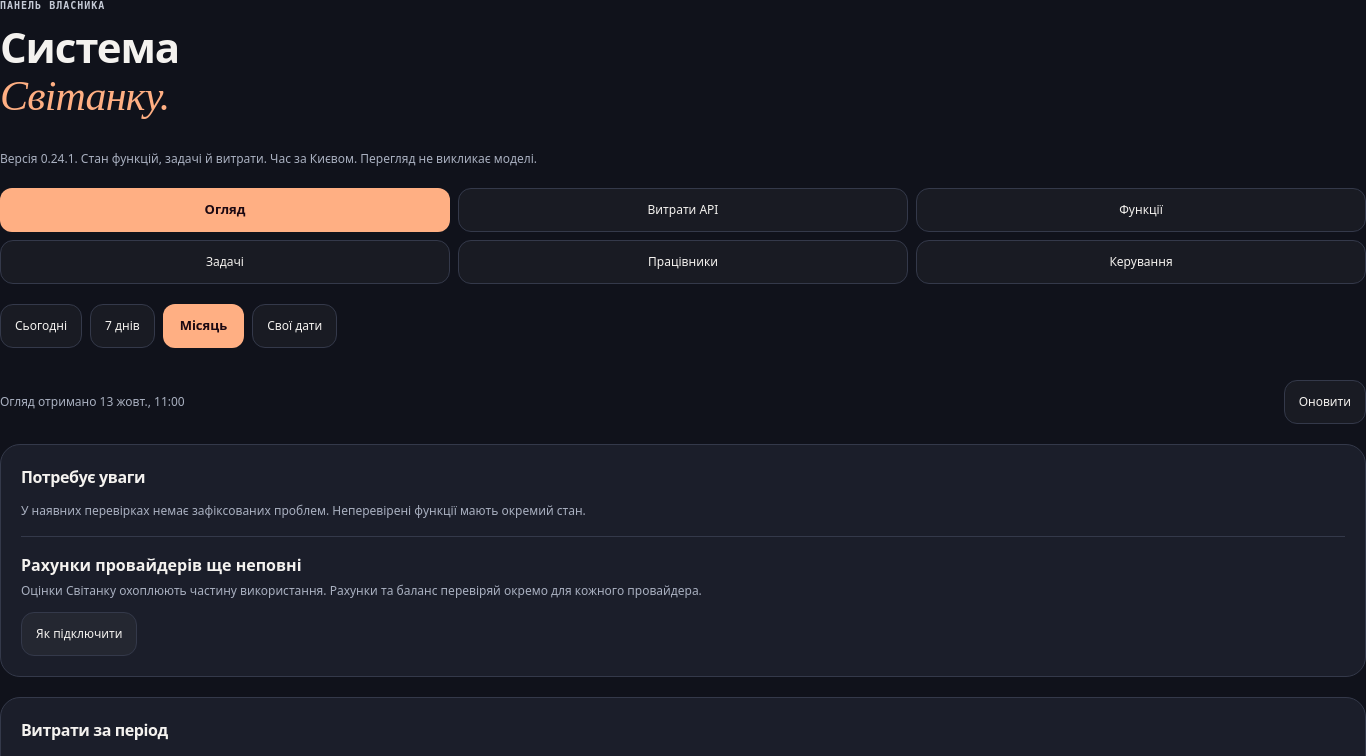
shows budget conflicts without losing the entered amount or enabling enforcement
Expected: the heading "Потребує уваги" is shown, x1=21 y1=466 x2=145 y2=488
Click the button "Керування": [1141, 262] box x1=916 y1=240 x2=1365 y2=284
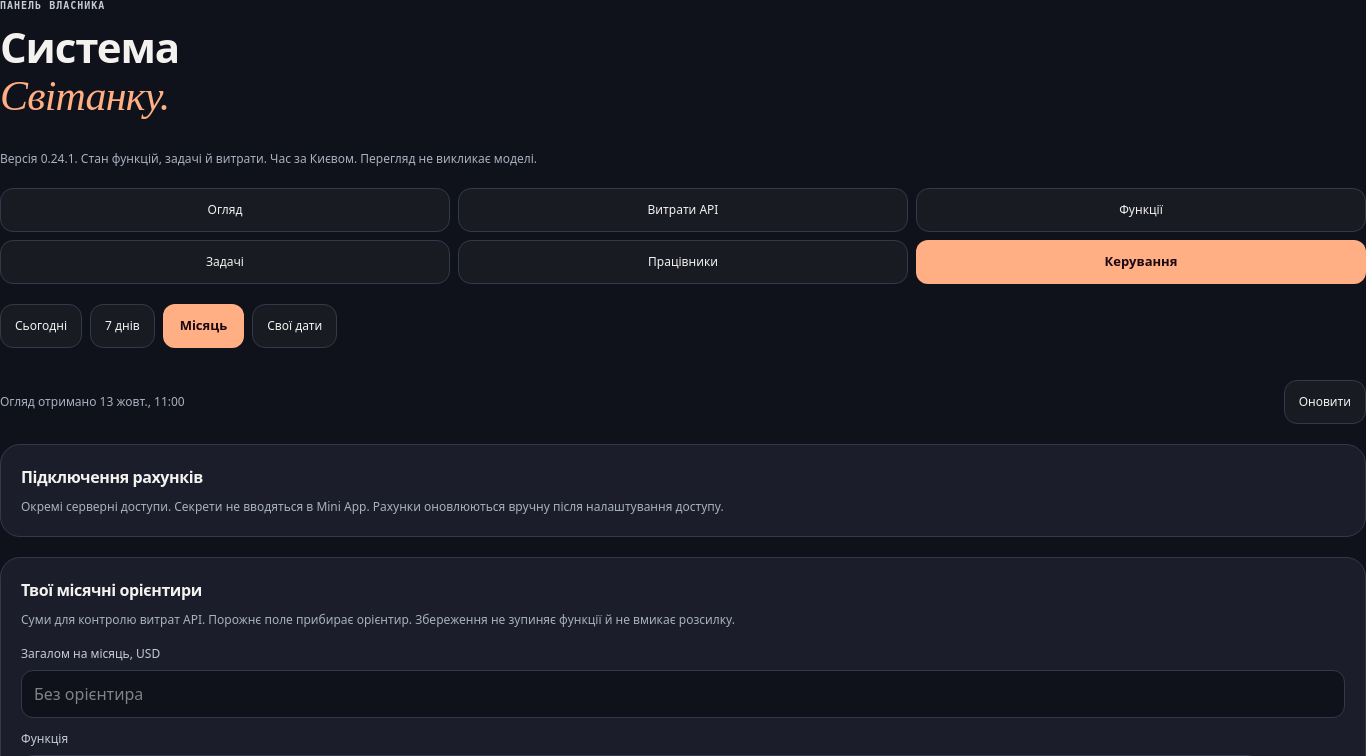
In the field labelled "Загалом на місяць, USD": [683, 694] box x1=21 y1=670 x2=1345 y2=718, type "12,5"
(page scrolled)
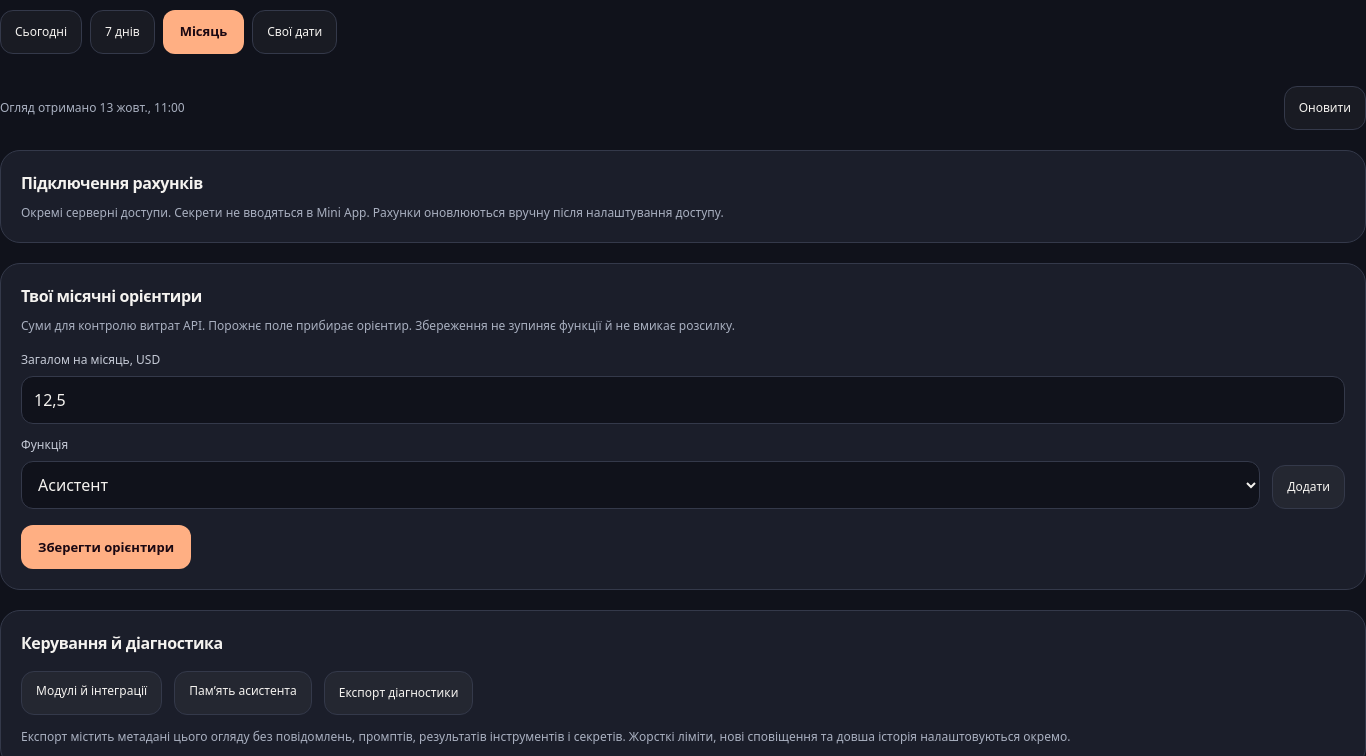
Click the button "Зберегти орієнтири": [106, 548] box x1=21 y1=526 x2=191 y2=570
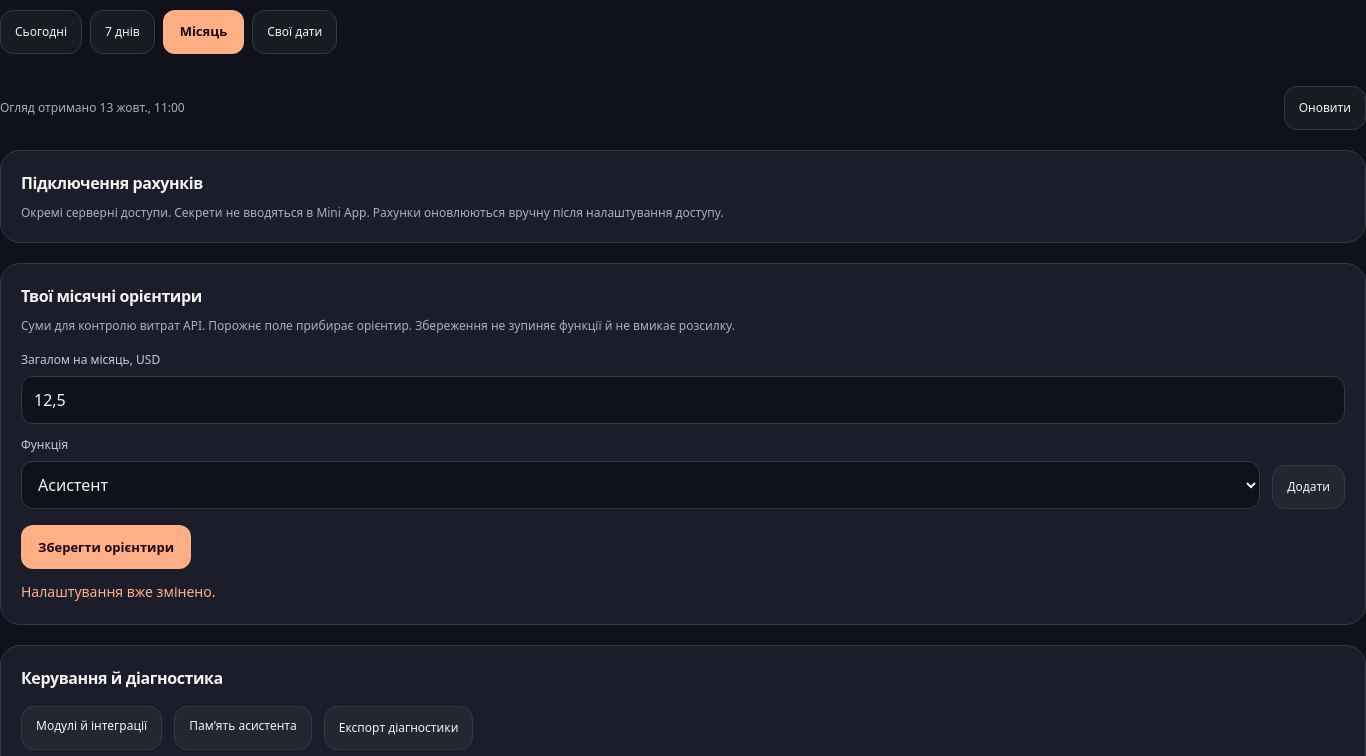
Result: the text "Налаштування вже змінено." is shown at x1=21 y1=582 x2=216 y2=602
